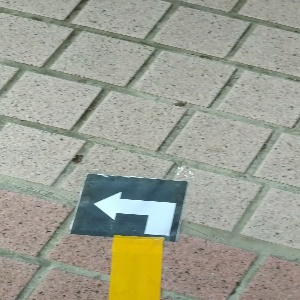left: (69, 174, 186, 242)
